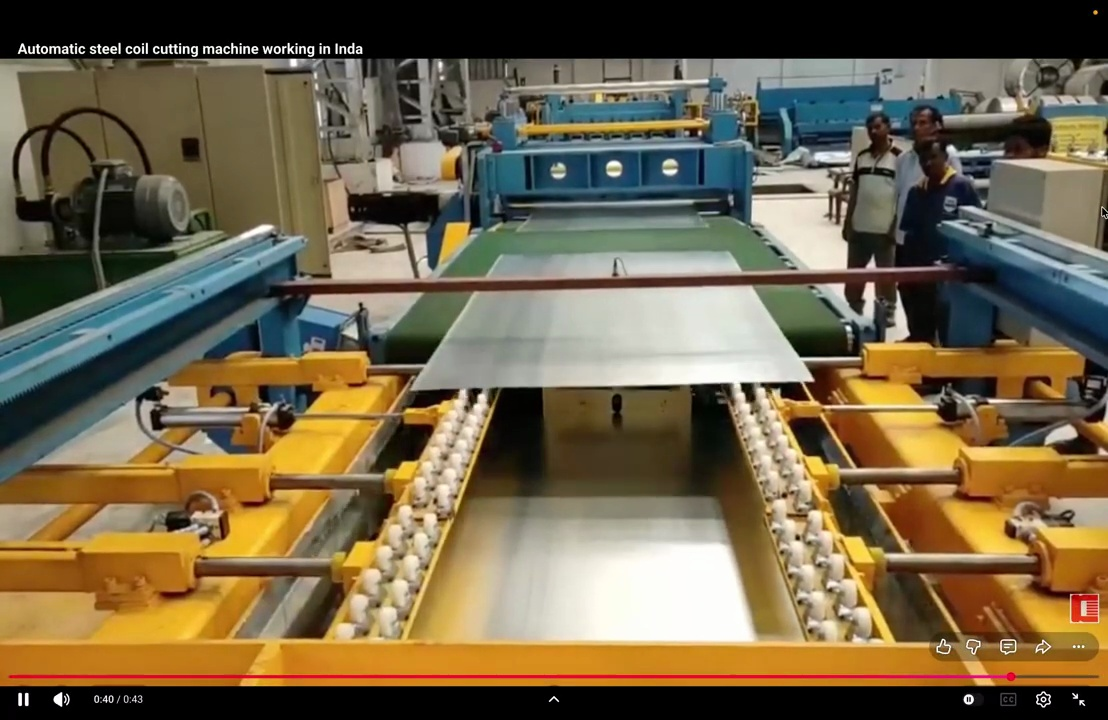steel plate: (414, 287, 811, 390), (517, 204, 705, 232)
